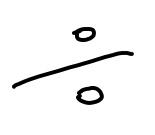div: (13, 26, 135, 105)
